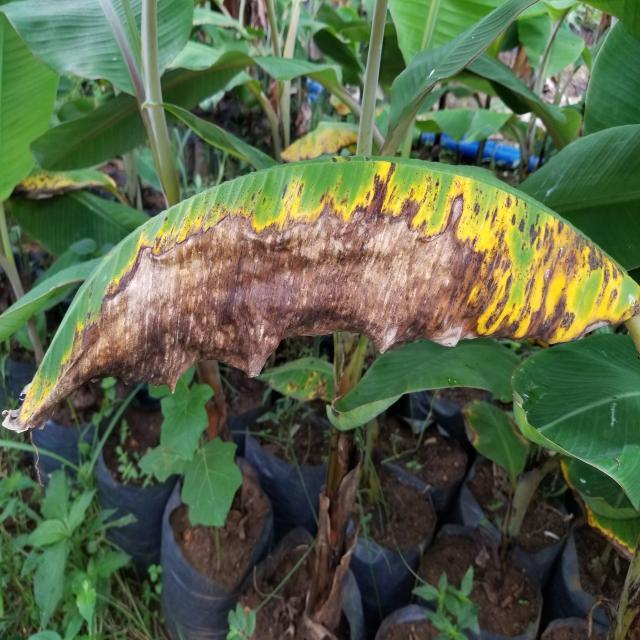Early_rust: (11, 149, 640, 440), (522, 443, 640, 585), (0, 133, 126, 220), (272, 81, 370, 164)
